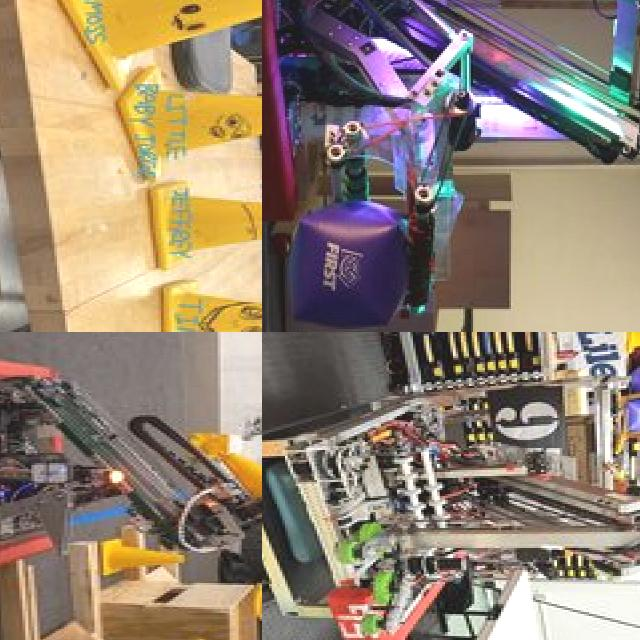FRC-Robots: (262, 0, 640, 265), (290, 407, 640, 640), (0, 344, 262, 594)
